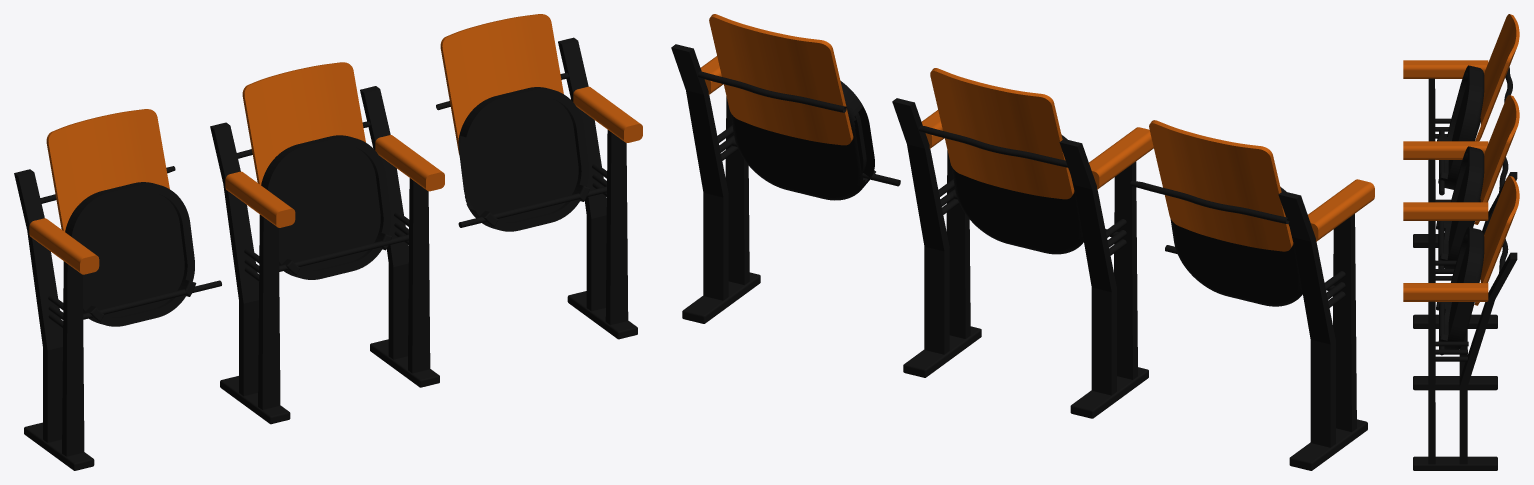
Rendered from sillaAuditorio.glb.
3 renders of one model, left to right at view 1: azimuth 30°, elevation 25°; view 2: azimuth 150°, elevation 25°; view 3: azimuth 270°, elevation 25°, orthographic. The views are drawn at different scales.
Visible parts, largest first — view 1: sillaAuditorio; view 2: sillaAuditorio; view 3: sillaAuditorio.
Boxes of the visible parts, left/top/right/bottom form: sillaAuditorio: left=14, top=14, right=642, bottom=470; sillaAuditorio: left=671, top=14, right=1374, bottom=470; sillaAuditorio: left=1403, top=14, right=1519, bottom=470.
Bounding box in the file's own units: 44.77 × 21.91 × 9.55.
